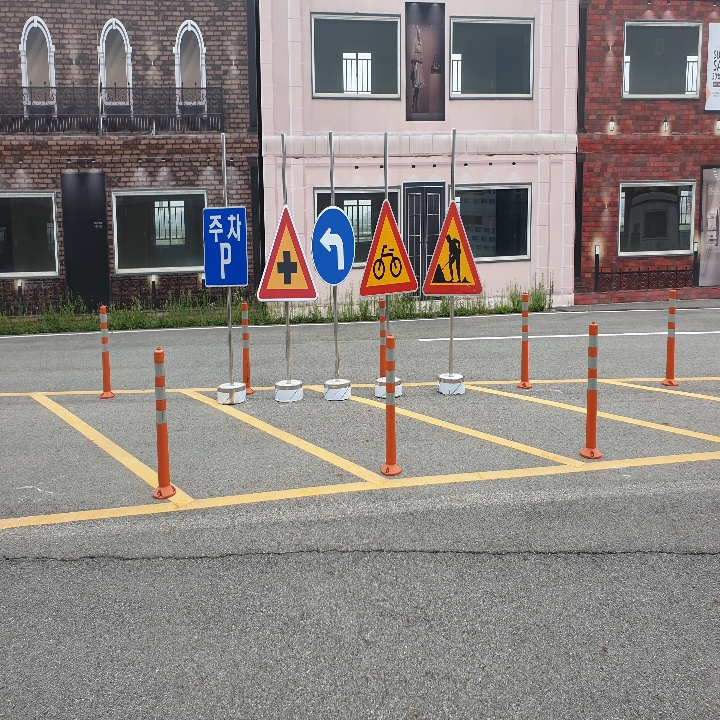bicycle: (359, 201, 415, 295)
const: (430, 229, 475, 286)
inter: (275, 248, 299, 287)
left: (314, 223, 349, 273)
parking: (213, 236, 236, 281)
